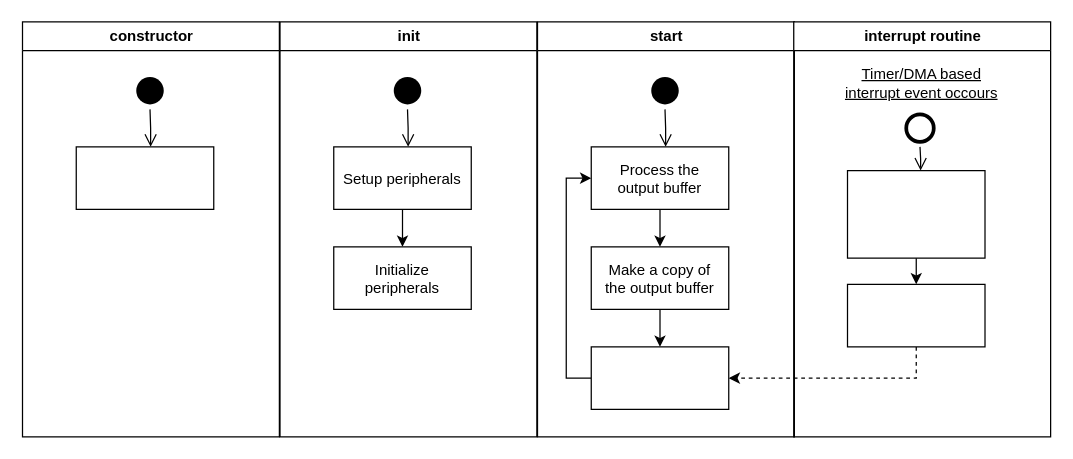
This 1073x459 diagram has some shape labels left out. Each missing label, with the centre of its shape:
Send the copy of the output buffer to the audio peripheral: (915,213)
Set parameters from cofiguration: (144,177)
Wait the hardware interrupt: (659,377)
Wake up the start loop: (915,315)
